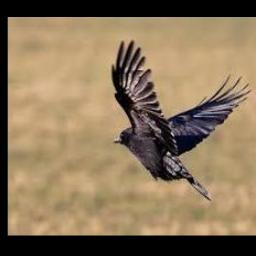Crow: (111, 39, 253, 200)
